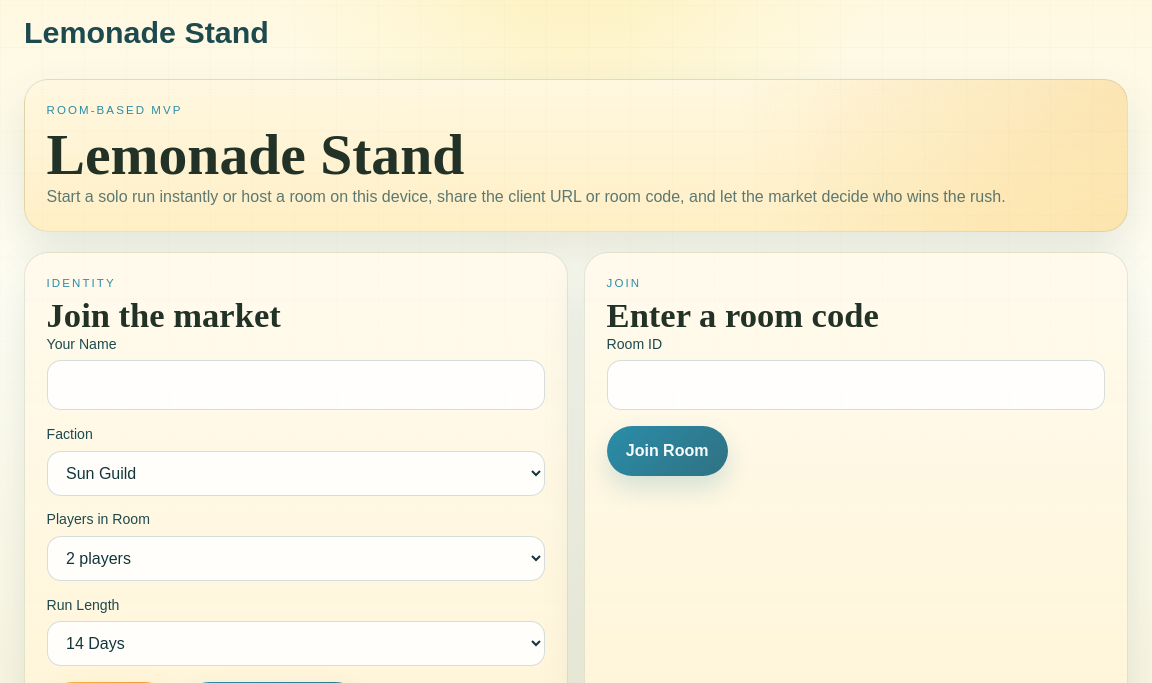
App › shows the sale amount during the final three quarters of a second before a buying customer exits
The width and height of the screenshot is (1152, 683).
Type "Alex" into the field labelled "Your Name". click: (296, 385)
box: top-left (47, 360), bottom-right (545, 410)
(page scrolled)
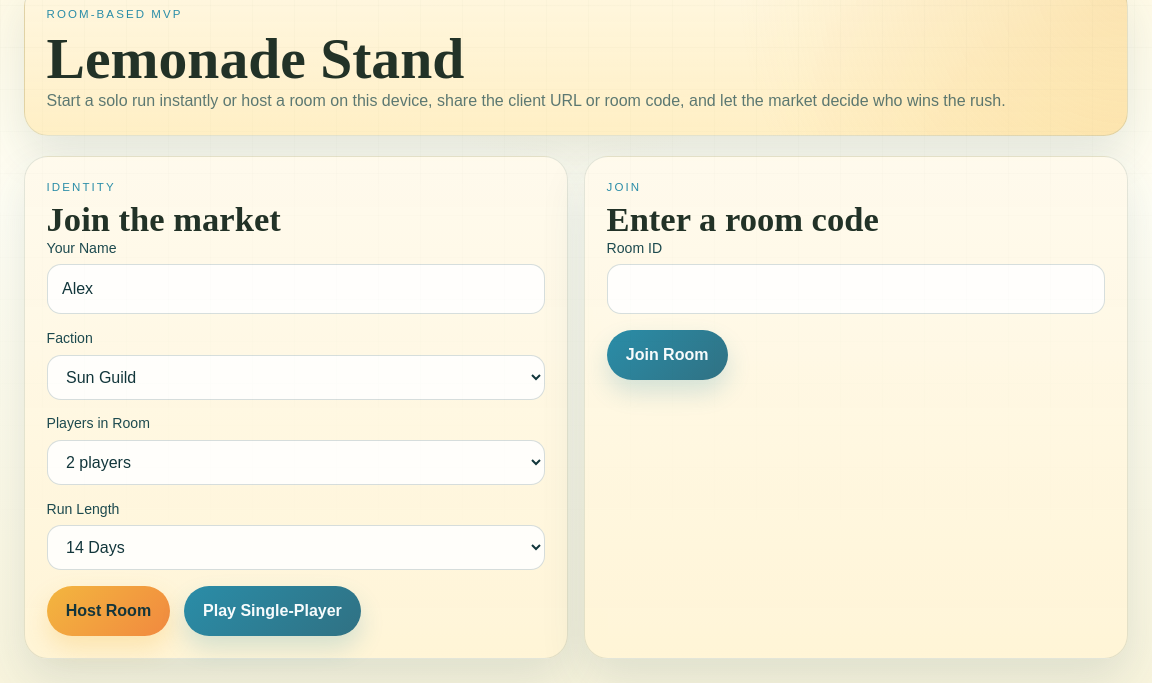
Click the button "Host Room". click: (108, 611)
box: top-left (47, 586), bottom-right (170, 636)
Wait 1500 ms
(page scrolled)
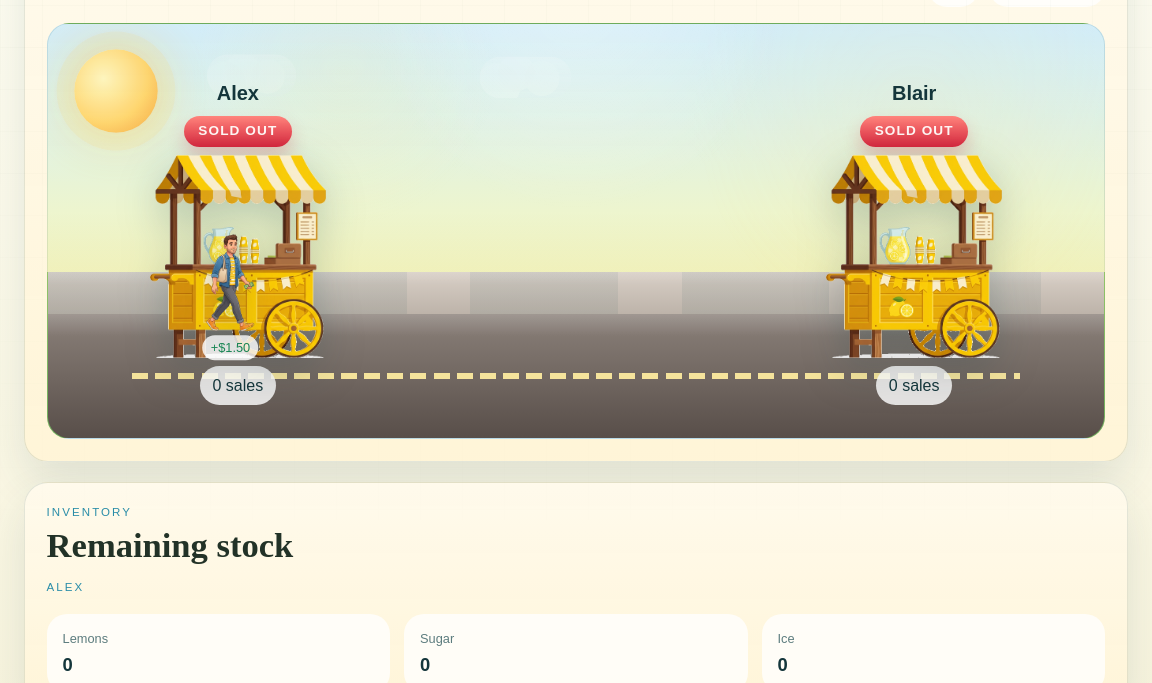
Check: the text "+$1.50" is shown, box top-left (203, 335), bottom-right (258, 360)
